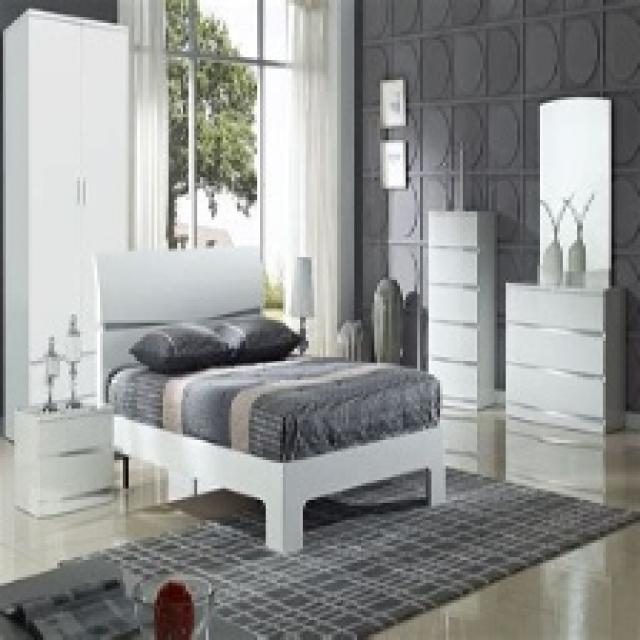Bed: (88, 243, 446, 554)
